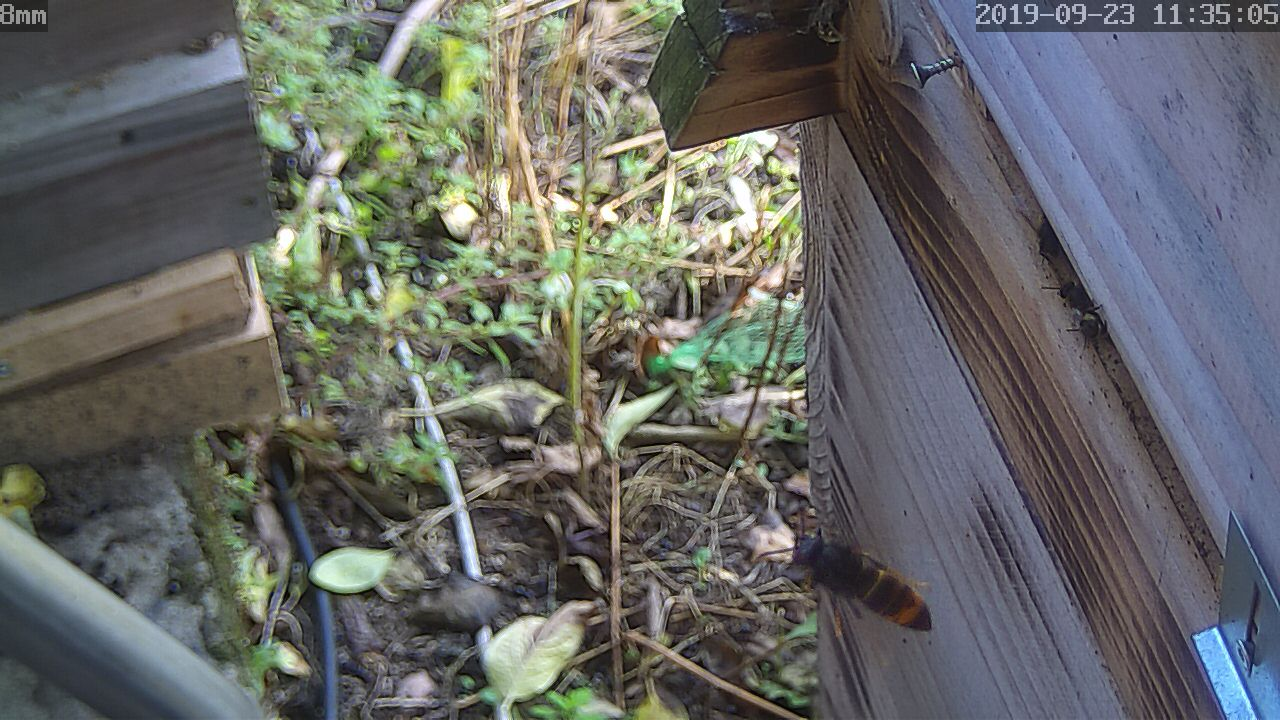bee: (1051, 279, 1109, 343)
hornet: (766, 523, 938, 641)
